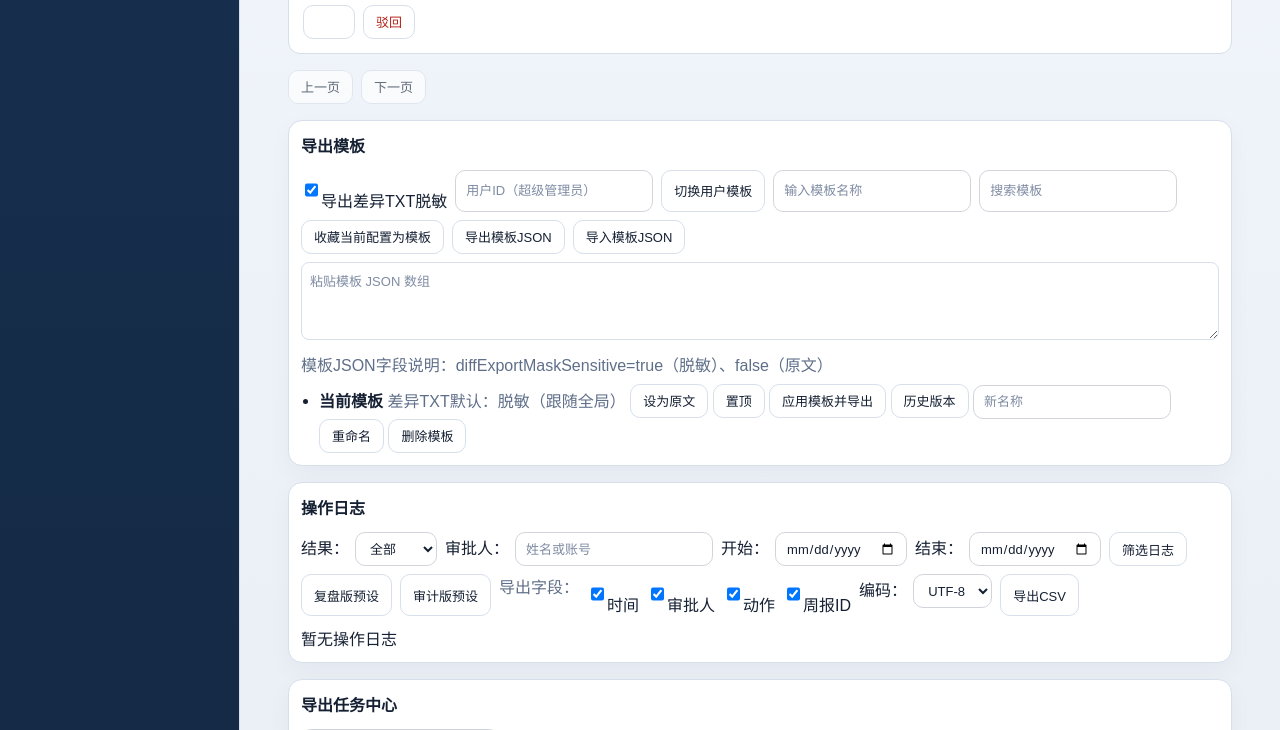
it: ManagerReviewsPage › highlights changed diff rows and supports expanding long diff value text
(page scrolled)
expect the text "当前模板" is shown: met, box top-left (319, 392), bottom-right (383, 409)
Click the button with aria-label "查看模板版本-当前模板": (930, 401) top-left (891, 384), bottom-right (969, 418)
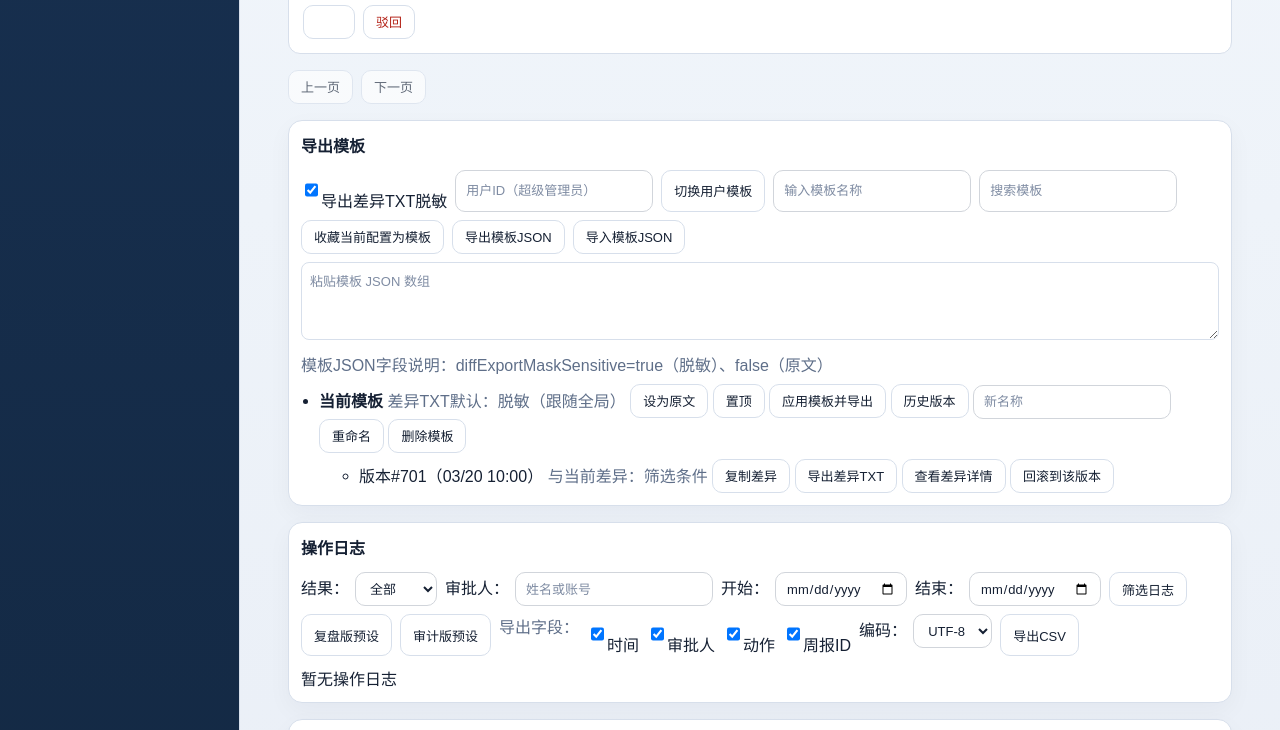
expect the button with aria-label "查看差异详情-当前模板-701" is shown: met
Click the button with aria-label "查看差异详情-当前模板-701": (954, 476) top-left (902, 459), bottom-right (1006, 493)
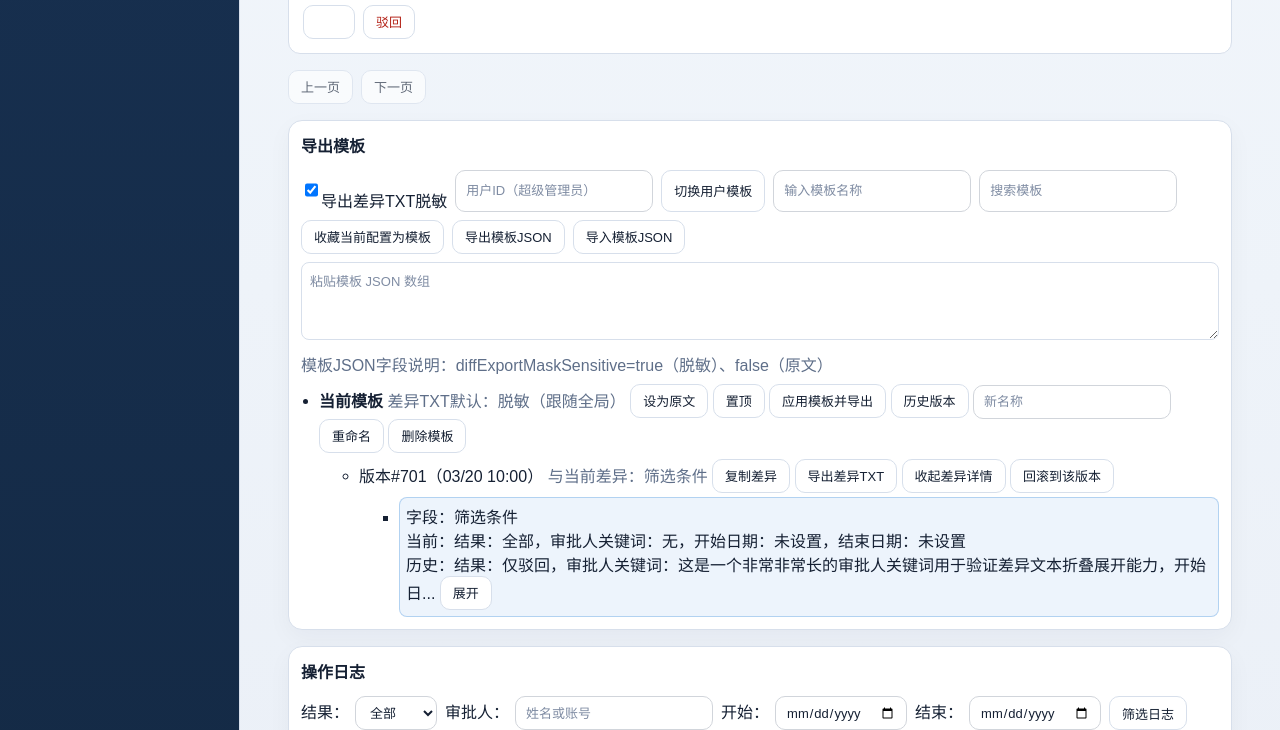
expect the list item with test id "template-diff-row-tpl-version-5-701-筛选条件" is shown: met, box top-left (399, 497), bottom-right (1219, 617)
expect the text "历史：结果：仅驳回，审批人关键词：这是一个非常非常长的审批人关键词用于验证差异文本折叠展开能力，开始日... 展开" is shown: met, box top-left (406, 552), bottom-right (1212, 610)
expect the button with aria-label "展开差异值-当前模板-701-筛选条件-history" is shown: met
Click the button with aria-label "展开差异值-当前模板-701-筛选条件-history": (466, 593) top-left (440, 576), bottom-right (492, 610)
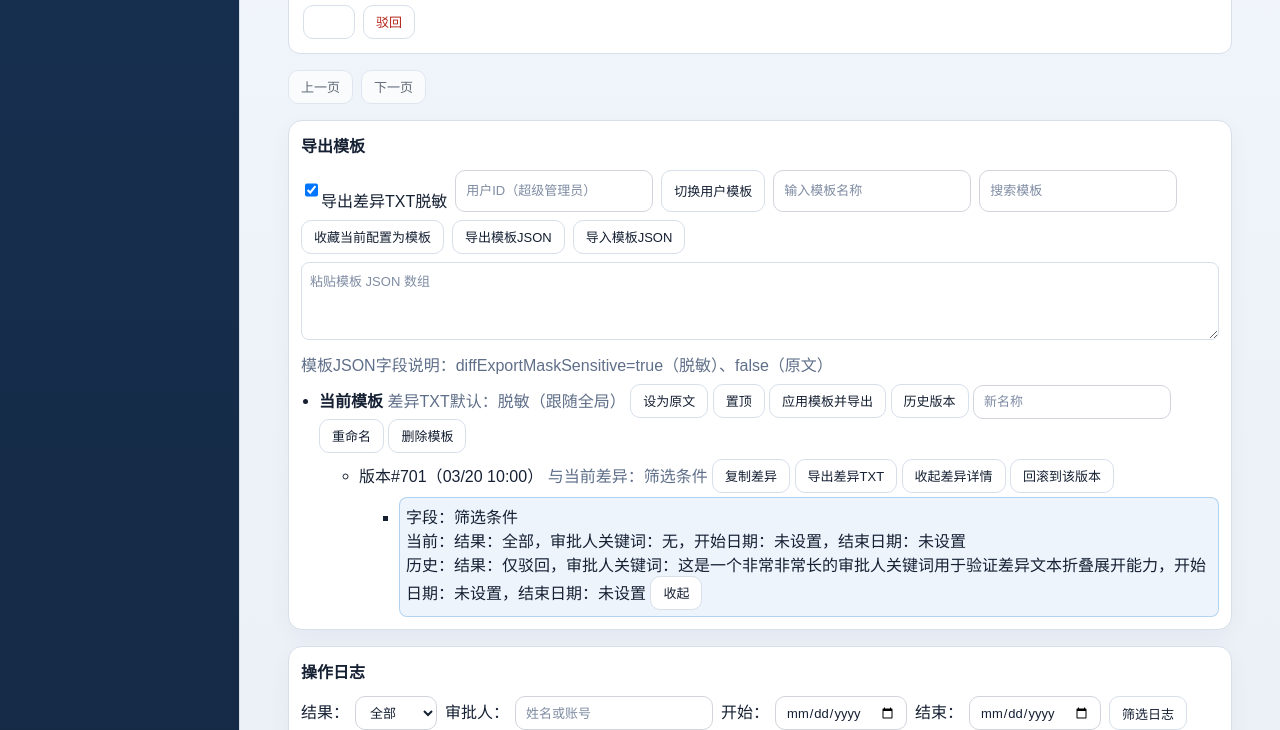
expect the text "历史：结果：仅驳回，审批人关键词：这是一个非常非常长的审批人关键词用于验证差异文本折叠展开能力" is shown: met, box top-left (406, 552), bottom-right (1212, 610)
expect the button with aria-label "收起差异值-当前模板-701-筛选条件-history" is shown: met, box top-left (650, 576), bottom-right (702, 610)
